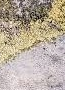Corrosion: (1, 1, 65, 68)
